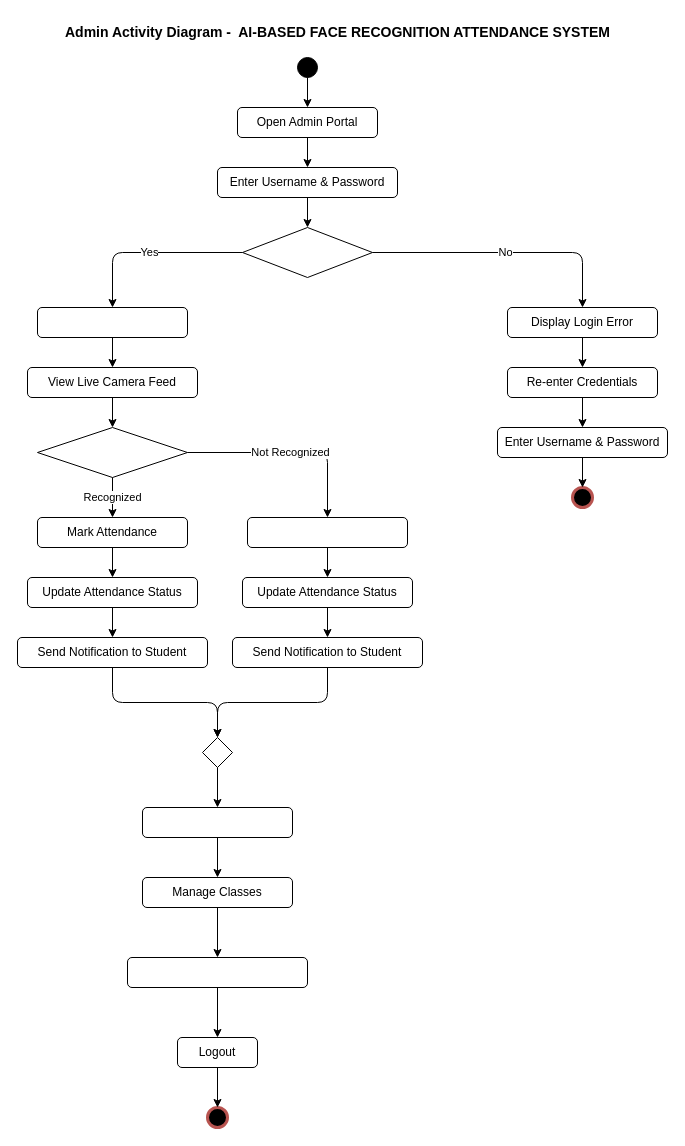
This 685x1146 diagram has some shape labels left out. Each missing label, with the centre of its shape:
Admin Dashboard: [112,322]
Credentials Valid?: [307,252]
Face Recognized?: [112,452]
Flag as Unrecognized: [327,532]
Generate Attendance Reports: [217,972]
Manage Students: [217,822]
